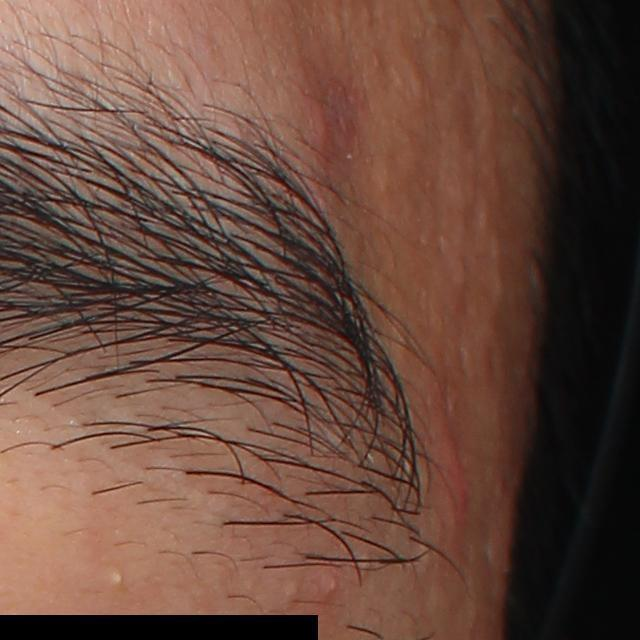other: (108, 568, 124, 590)
